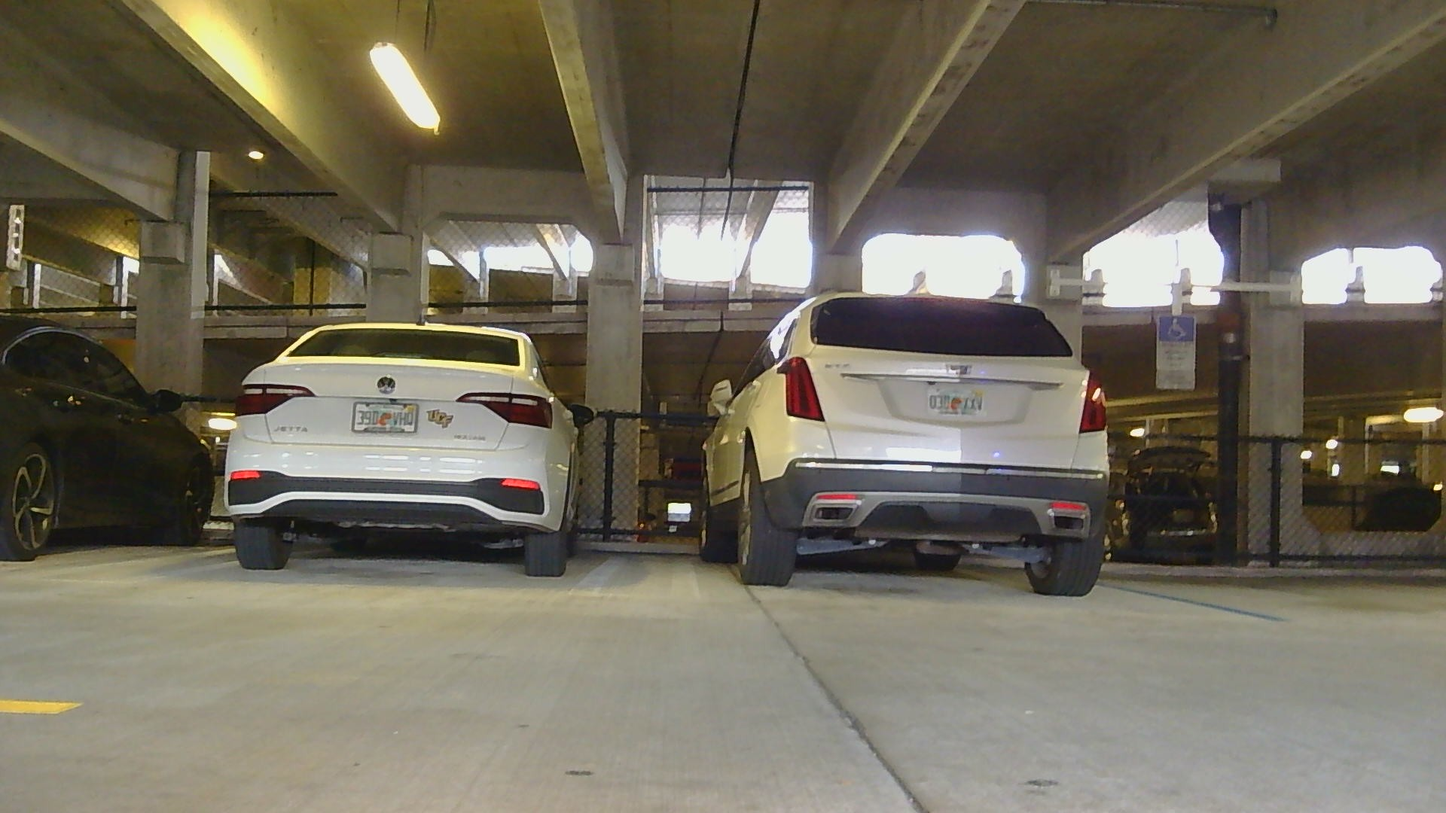occupied_spot: (683, 286, 1121, 609), (222, 313, 595, 589), (1, 313, 217, 583)
